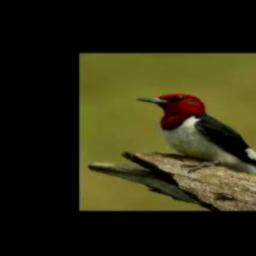Woodpecker: (135, 93, 256, 181)
